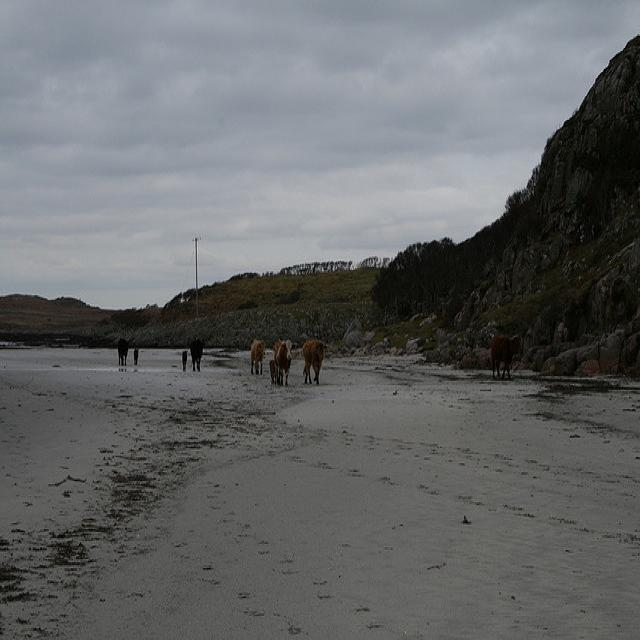cow: (489, 330, 523, 378), (301, 339, 325, 384), (274, 339, 297, 384), (187, 337, 203, 370), (249, 337, 264, 372), (271, 337, 282, 382), (116, 336, 127, 364), (181, 348, 186, 369), (132, 345, 137, 364)
